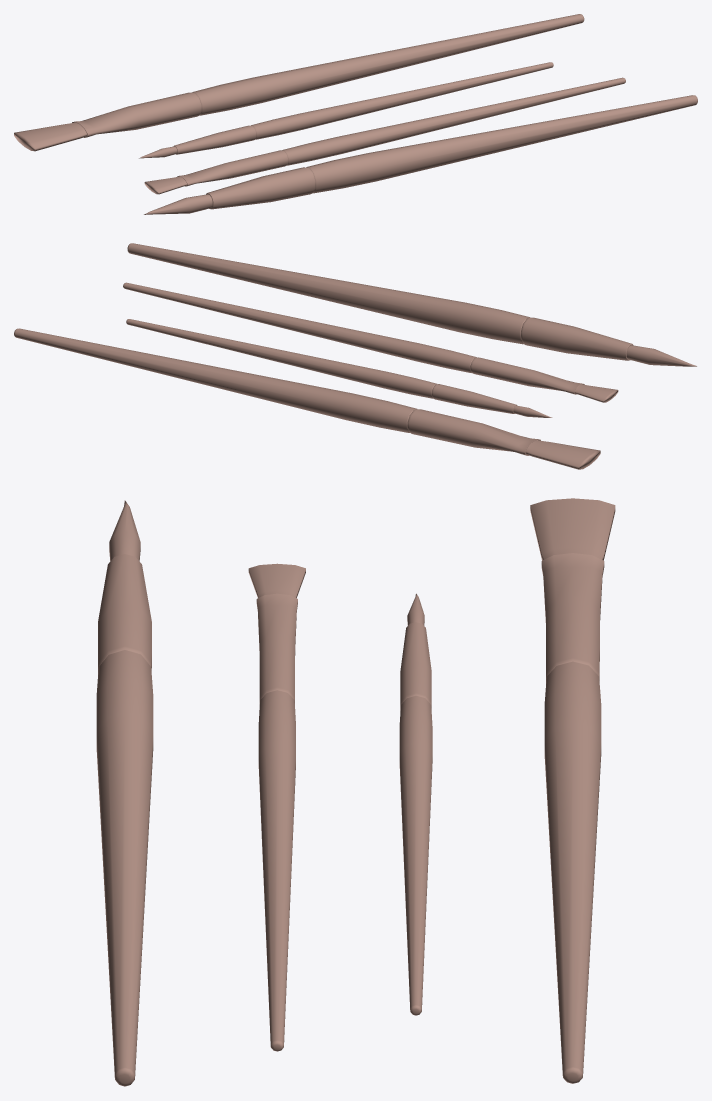
The model's file is brush_for_texture.fbx.
3 renders of one model, top to bottom at view 1: azimuth 30°, elevation 25°; view 2: azimuth 150°, elevation 25°; view 3: azimuth 270°, elevation 25°, orthographic. The views are drawn at different scales.
Parts seen in each view (by area): view 1: pCylinder9; view 2: pCylinder9; view 3: pCylinder9.
Part boxes in pixels (bbox=[...]): pCylinder9: bbox=[14, 14, 697, 214]; pCylinder9: bbox=[14, 243, 696, 469]; pCylinder9: bbox=[96, 498, 615, 1086].
Size of the model in its own units: 0.5214 by 0.0285 by 0.2092.
